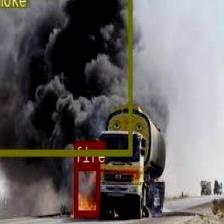fire: (74, 163, 100, 216)
smoke: (0, 0, 132, 155)
